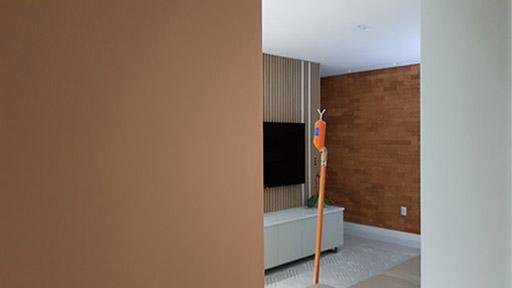Detector_Tensao_Contato: (314, 108, 326, 152)
Vara_Manobra: (312, 150, 328, 288)
